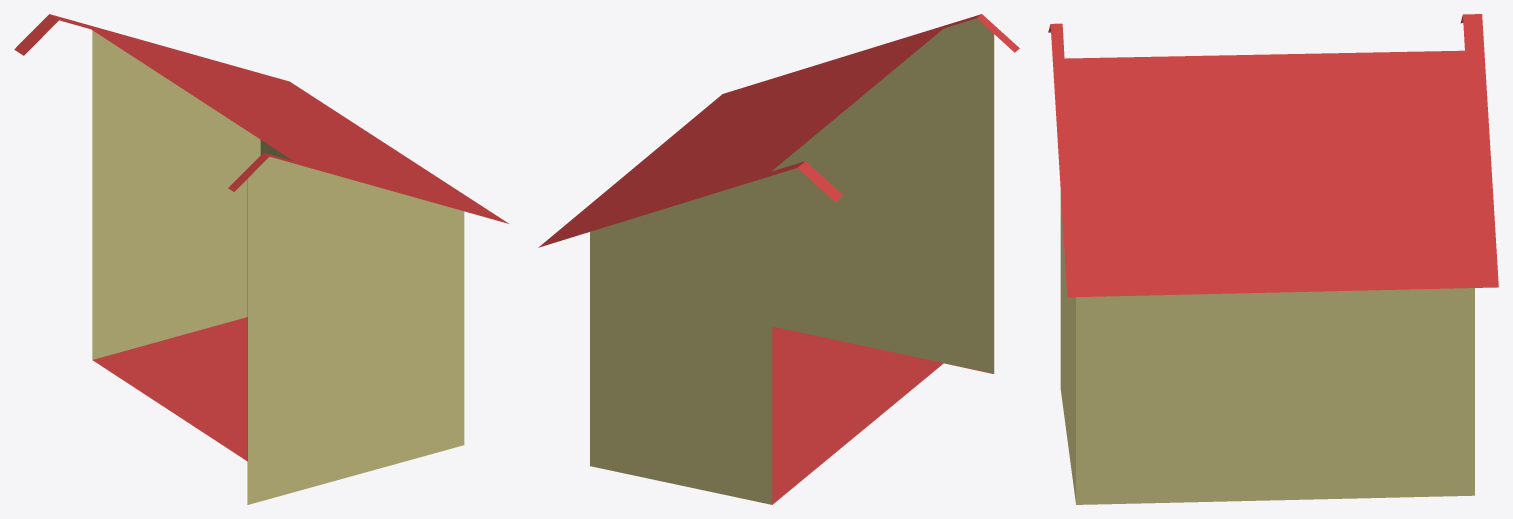
The picture shows the model from 3 angles, left to right: view 1: azimuth 30°, elevation 25°; view 2: azimuth 150°, elevation 25°; view 3: azimuth 270°, elevation 25°; orthographic projection. The views are drawn at different scales.
Size of the model in its own units: 7.55 by 9.06 by 8.27.
